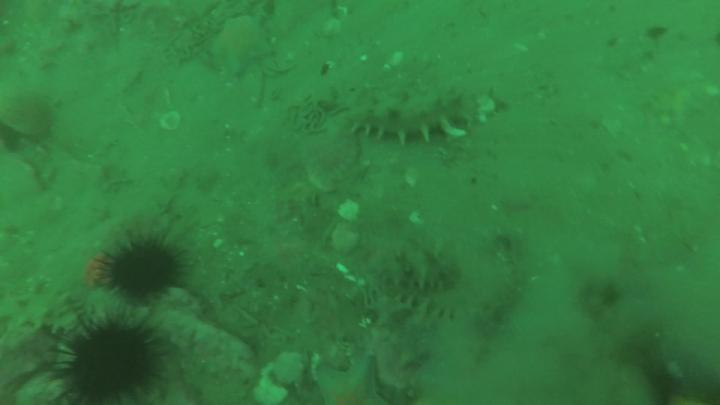echinus: (71, 325, 153, 400), (110, 245, 178, 296)
holothurian: (348, 89, 467, 142), (477, 240, 524, 326), (367, 296, 450, 343), (368, 247, 450, 288)
starfish: (313, 355, 386, 405), (207, 19, 273, 71)
